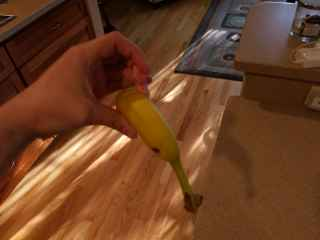banana: (108, 77, 206, 217)
